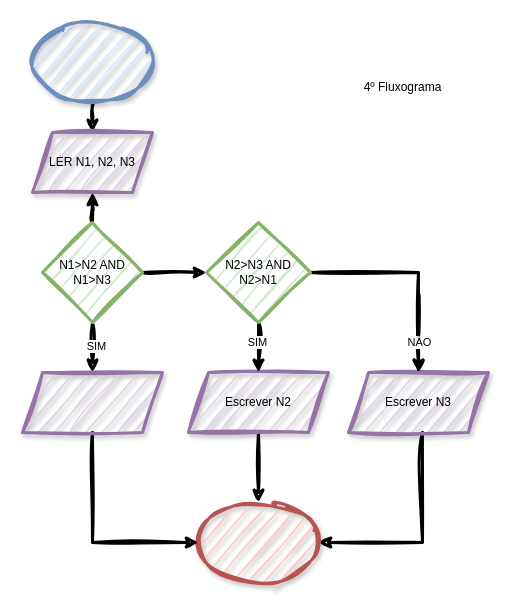
This 513x608 diagram has some shape labels left out. Here are the shapes that lost their labels. From the top down, the centre of each, then its label:
(93,63): Inicio
(93,403): Escrever N1
(259,543): Fim
